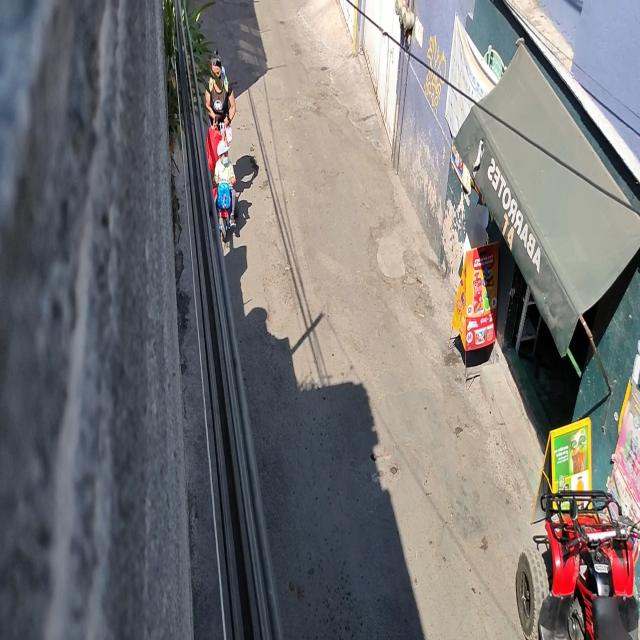adult: (203, 50, 238, 206)
child: (211, 139, 239, 234)
